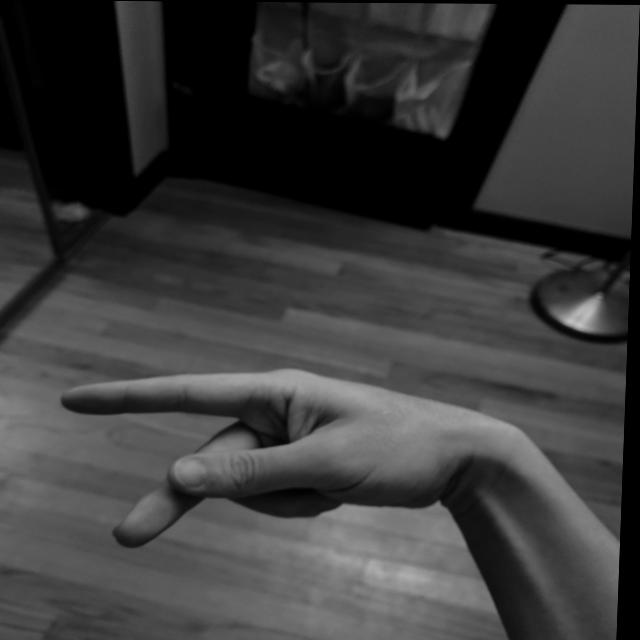P: (53, 360, 455, 555)
